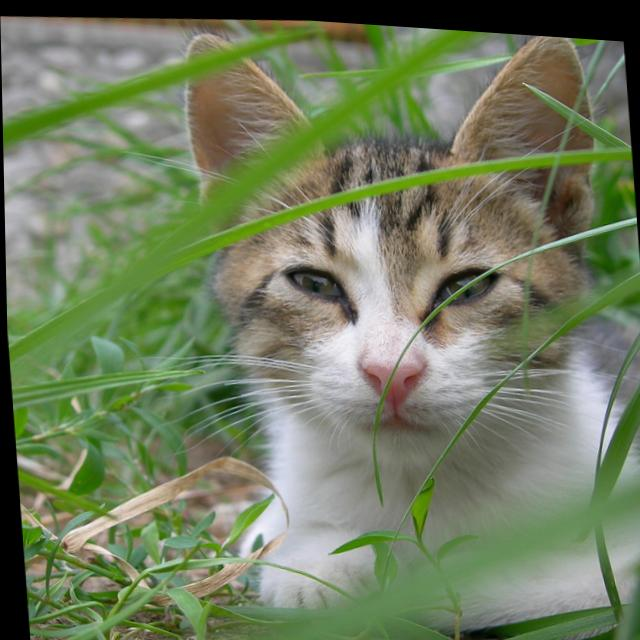animals: (200, 10, 594, 409)
